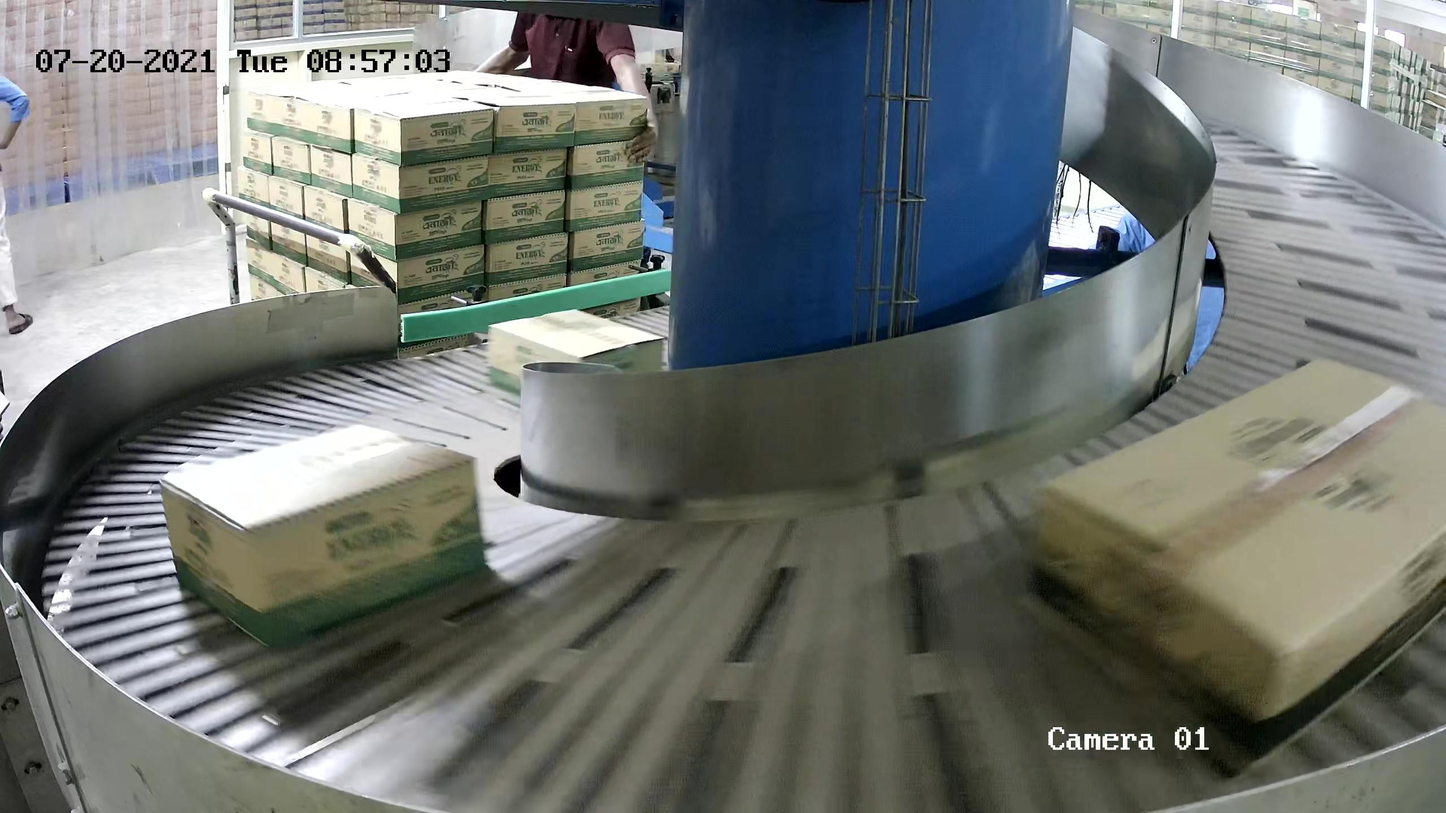Box: (1023, 352, 1446, 776), (158, 421, 489, 651), (487, 306, 665, 403)
